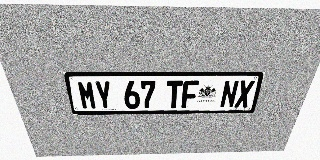6: (123, 81, 140, 109)
7: (140, 81, 156, 109)
F: (181, 80, 199, 108)
M: (77, 81, 97, 109)
N: (219, 80, 240, 108)
T: (166, 80, 183, 108)
X: (234, 80, 255, 108)
Y: (94, 81, 113, 109)
